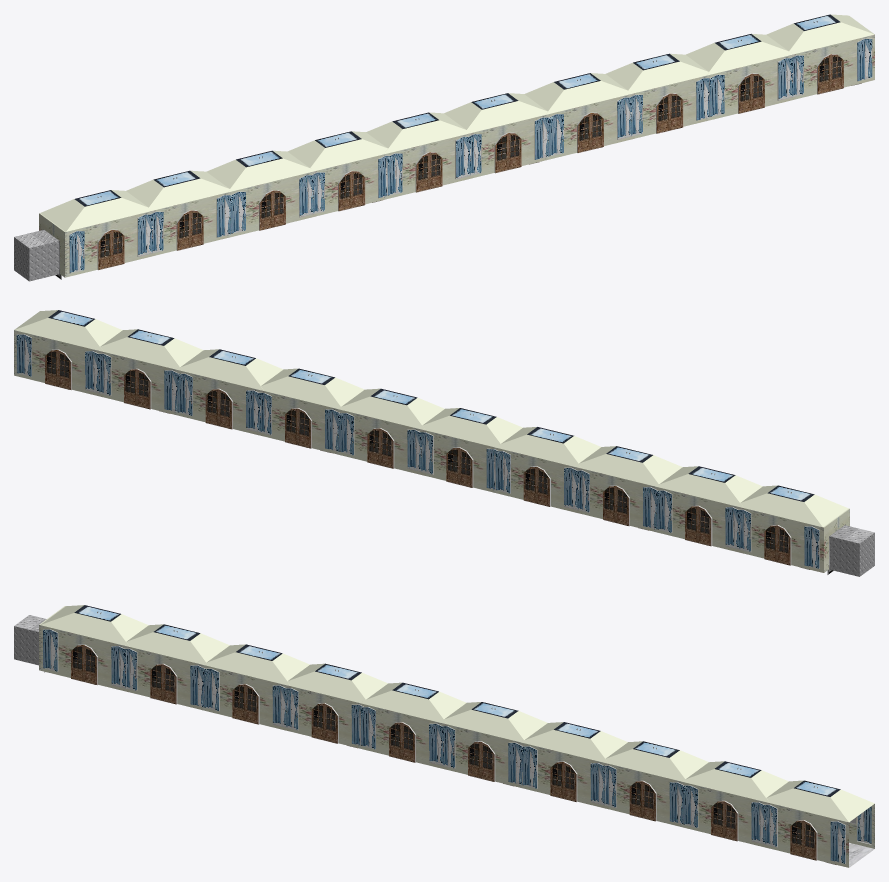
File: New Game Hallway.fbx
The picture shows the model from 3 angles, top to bottom: view 1: azimuth 30°, elevation 25°; view 2: azimuth 150°, elevation 25°; view 3: azimuth 330°, elevation 25°; orthographic projection.
Visible parts, largest first — view 1: Plane, Plane.034, Plane.028, Plane.016, Plane.022, Plane.038, Plane.014, Plane.026, Plane.032, Plane.020, Cube.001, Plane.003; view 2: Plane.038, Plane, Plane.026, Plane.014, Plane.032, Plane.020, Plane.028, Plane.016, Plane.034, Plane.022, Cube.001, Plane.003; view 3: Plane.038, Plane, Plane.028, Plane.016, Plane.034, Plane.022, Plane.014, Plane.026, Plane.032, Plane.020, Cube.001.
Part boxes in pixels (x1,y1,x2,y2): Plane: (40, 190, 155, 277); Plane.034: (686, 33, 795, 120); Plane.028: (524, 73, 634, 160); Plane.016: (206, 150, 316, 237); Plane.022: (366, 112, 473, 199); Plane.038: (766, 14, 874, 99); Plane.014: (126, 170, 230, 255); Plane.026: (444, 93, 548, 177); Plane.032: (606, 53, 709, 138); Plane.020: (287, 131, 389, 215); Cube.001: (14, 229, 59, 281); Plane.003: (39, 213, 65, 277); Plane.038: (14, 310, 122, 397); Plane: (738, 485, 848, 572); Plane.026: (336, 388, 444, 475); Plane.014: (654, 466, 762, 553); Plane.032: (174, 349, 283, 436); Plane.020: (492, 427, 600, 513); Plane.028: (259, 368, 364, 453); Plane.016: (577, 446, 682, 531); Plane.034: (98, 329, 203, 414); Plane.022: (420, 408, 522, 492); Cube.001: (829, 525, 874, 576); Plane.003: (823, 508, 849, 572); Plane.038: (764, 780, 874, 867); Plane: (40, 605, 148, 692); Plane.028: (519, 722, 627, 809); Plane.016: (201, 644, 309, 731); Plane.034: (680, 761, 788, 848); Plane.022: (358, 682, 466, 769); Plane.014: (124, 624, 229, 709); Plane.026: (442, 702, 547, 787); Plane.032: (603, 741, 708, 826); Plane.020: (286, 663, 387, 747); Cube.001: (14, 615, 46, 665).
Bounding box in the file's own units: 3747 × 282 × 211.
